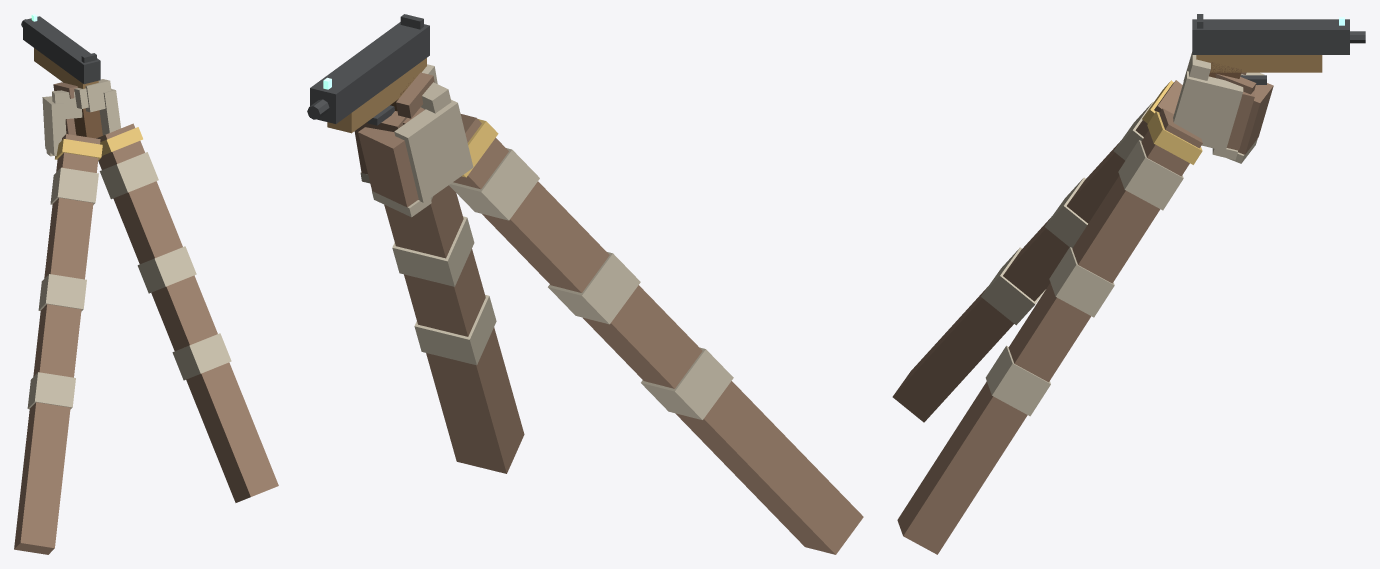
File: pistol.glb
3 views of the same model, side by side, from view 1: azimuth 30°, elevation 25°; view 2: azimuth 150°, elevation 25°; view 3: azimuth 270°, elevation 25° (orthographic). The views are drawn at different scales.
Visible parts, largest first — view 1: PR_Forearm, PL_Forearm, P_Slide, PR_Wrap0, PR_Wrap1, PR_Wrap2, PL_Wrap1, PL_Wrap0, PL_Wrap2, PL_Palm, PR_Palm, PL_Bracelet (+5 smaller); view 2: PL_Forearm, PR_Forearm, P_Slide, PL_Palm, PL_Fingers, PL_Wrap2, PL_Wrap1, PL_Wrap0, PR_Wrap2, PR_Wrap1, P_Frame, PR_Thumb (+2 smaller); view 3: PR_Forearm, PL_Forearm, P_Slide, PR_Palm, PR_Wrap1, PR_Wrap0, PR_Wrap2, P_Frame, PL_Wrap2, PL_Wrap1, PR_Bracelet, PL_Fingers (+2 smaller).
Boxes of the visible parts, x1,y1,x2,y2 form: PR_Forearm: [96, 123, 278, 502]; PL_Forearm: [14, 134, 100, 554]; P_Slide: [23, 16, 100, 84]; PR_Wrap0: [99, 152, 158, 199]; PR_Wrap1: [137, 246, 196, 293]; PR_Wrap2: [172, 333, 231, 380]; PL_Wrap1: [38, 274, 86, 311]; PL_Wrap0: [50, 167, 98, 204]; PL_Wrap2: [27, 372, 75, 409]; PL_Palm: [42, 96, 66, 155]; PR_Palm: [99, 89, 120, 135]; PL_Bracelet: [55, 139, 102, 160]; PL_Forearm: [453, 114, 863, 554]; PR_Forearm: [384, 185, 524, 473]; P_Slide: [310, 22, 429, 123]; PL_Palm: [394, 99, 473, 202]; PL_Fingers: [358, 127, 418, 207]; PL_Wrap2: [641, 347, 733, 419]; PL_Wrap1: [548, 252, 640, 324]; PL_Wrap0: [449, 148, 539, 220]; PR_Wrap2: [414, 295, 496, 365]; PR_Wrap1: [392, 216, 474, 286]; P_Frame: [327, 58, 426, 133]; PR_Thumb: [396, 72, 434, 118]; PR_Forearm: [897, 108, 1202, 554]; PL_Forearm: [892, 80, 1182, 422]; P_Slide: [1192, 19, 1349, 54]; PR_Palm: [1173, 71, 1243, 151]; PR_Wrap1: [1049, 247, 1114, 317]; PR_Wrap0: [1118, 140, 1183, 210]; PR_Wrap2: [985, 345, 1050, 416]; P_Frame: [1196, 55, 1322, 72]; PL_Wrap2: [981, 247, 1045, 325]; PL_Wrap1: [1045, 177, 1087, 247]; PR_Bracelet: [1147, 111, 1202, 164]; PL_Fingers: [1238, 83, 1273, 154].
Size of the model in its own units: 0.484 by 0.6975 by 0.6008.
